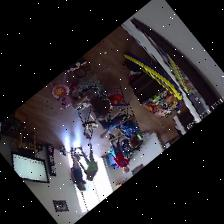person: (68, 88, 109, 119), (100, 114, 138, 146), (78, 143, 97, 179), (110, 137, 129, 172), (70, 147, 85, 190)
